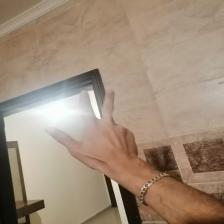three: (38, 89, 144, 169)
